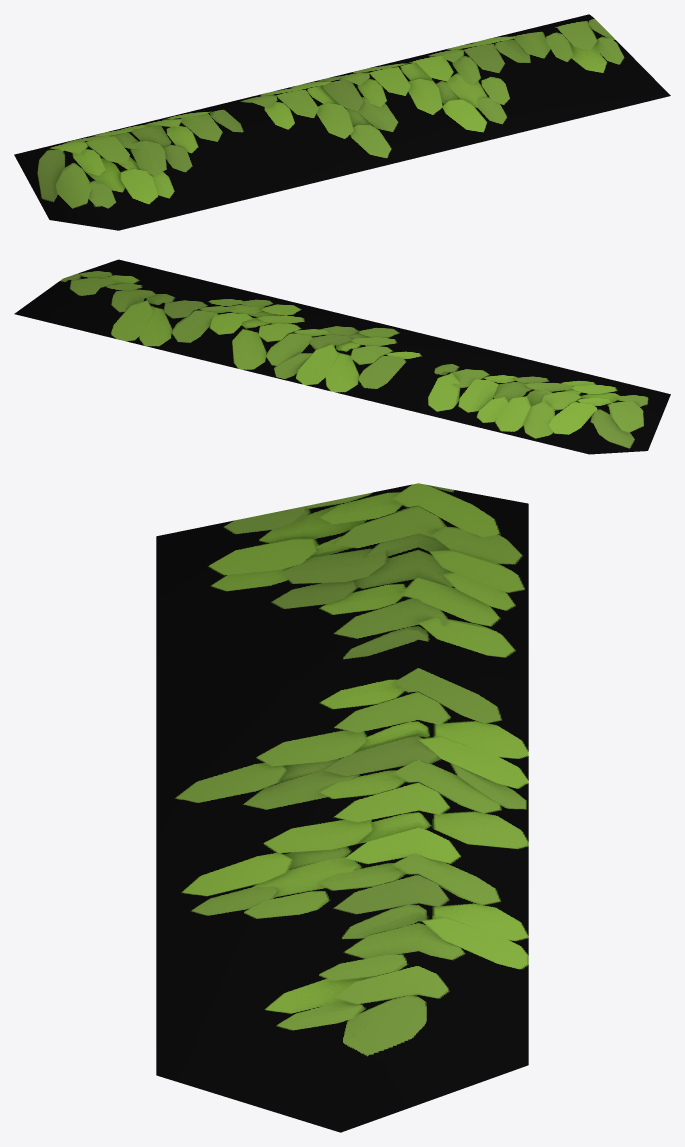
The model's file is Foliage2.gltf.
The picture shows the model from 3 angles, top to bottom: view 1: azimuth 30°, elevation 25°; view 2: azimuth 150°, elevation 25°; view 3: azimuth 270°, elevation 25°; orthographic projection. The views are drawn at different scales.
Visible parts, largest first — view 1: Foliage2; view 2: Foliage2; view 3: Foliage2.
Boxes of the visible parts, left/top/right/bottom form: Foliage2: left=14, top=14, right=670, bottom=230; Foliage2: left=14, top=259, right=670, bottom=454; Foliage2: left=156, top=483, right=528, bottom=1132.
Bounding box in the file's own units: 3.11 × 0.2424 × 0.8366.
1 material, 1 textured.
